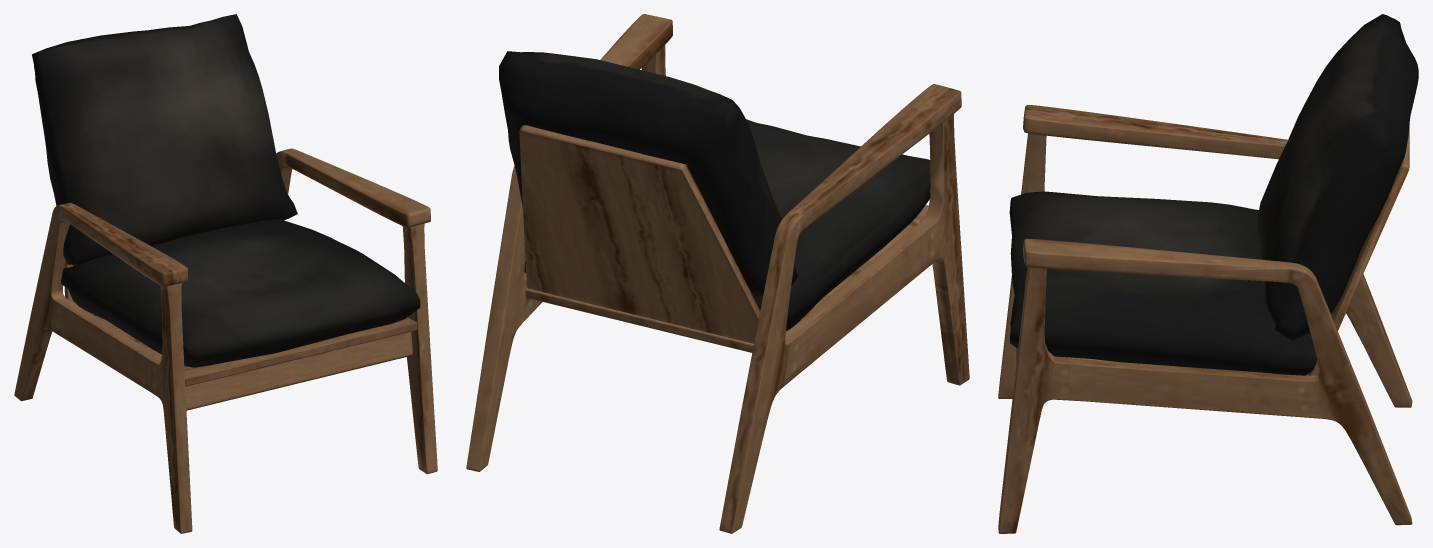
File: modern_arm_chair_01.glb
3 views of the same model, side by side, from view 1: azimuth 30°, elevation 25°; view 2: azimuth 150°, elevation 25°; view 3: azimuth 270°, elevation 25° (orthographic). The views are drawn at different scales.
Visible parts, largest first — view 1: modern_arm_chair_01; view 2: modern_arm_chair_01; view 3: modern_arm_chair_01.
Boxes of the visible parts, x1=… form: modern_arm_chair_01: x1=14, y1=14, x2=437, y2=533; modern_arm_chair_01: x1=466, y1=14, x2=969, y2=533; modern_arm_chair_01: x1=998, y1=14, x2=1418, y2=533.
Size of the model in its own units: 0.8203 by 1.02 by 0.9865.
2 materials, 2 textured.
